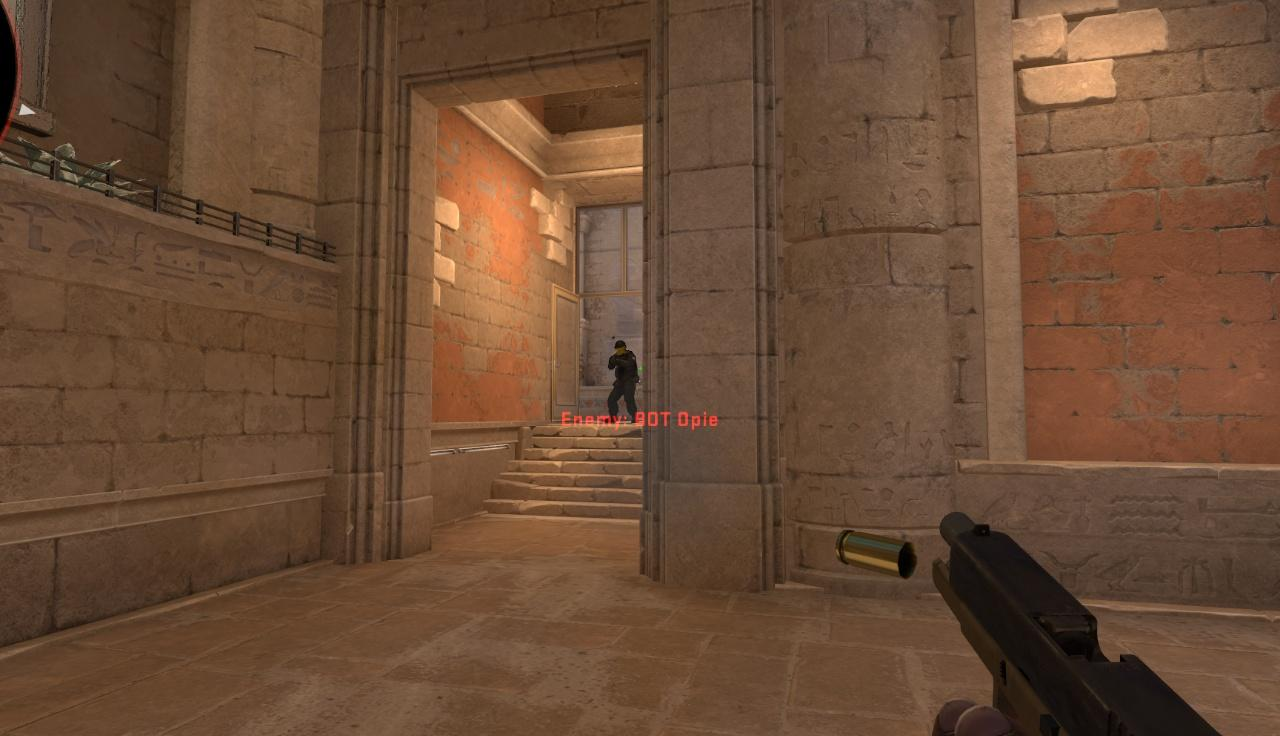ct: (606, 340, 640, 426)
cthead: (614, 339, 627, 357)
pistol: (925, 510, 1242, 736)
